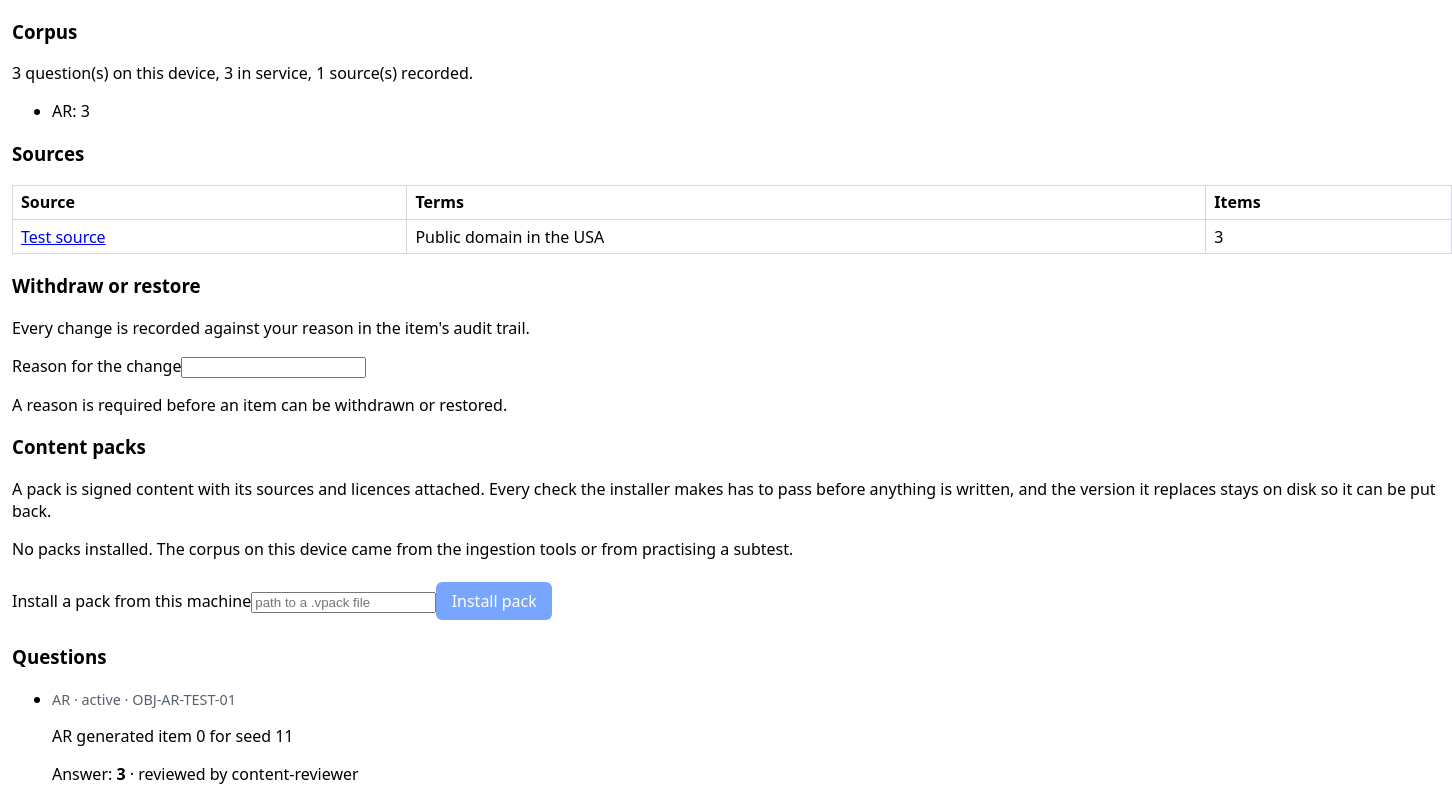
Scenario: the packs panel › shows a refused install as an error rather than as success
This screenshot has width=1452, height=802.
Type "C:/packs/untrusted.vpack" into the field with test id "pack-path-input". click: (344, 602)
box: x1=251 y1=592 x2=436 y2=613
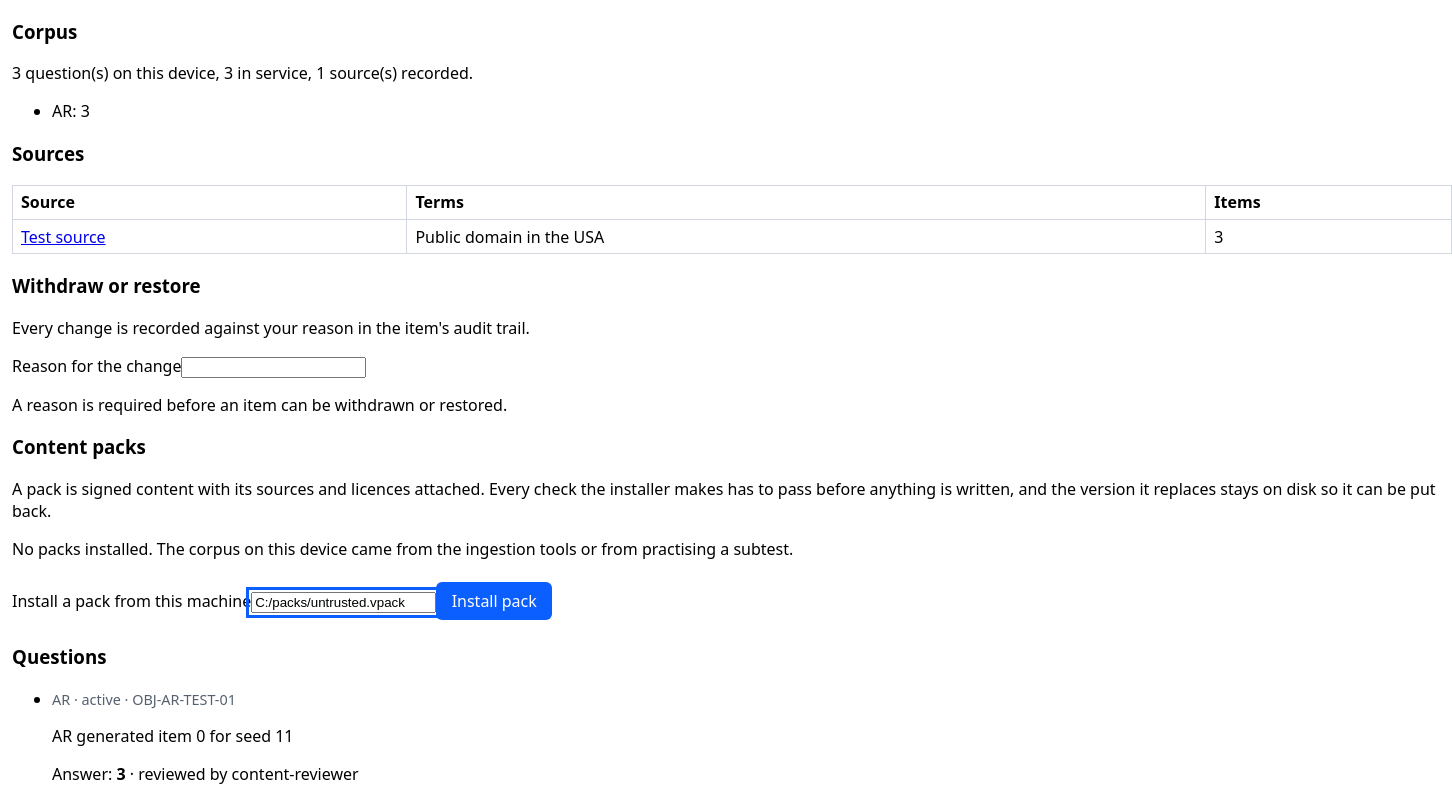
Click the button with test id "pack-install". click: (494, 601)
box: x1=436 y1=582 x2=552 y2=620
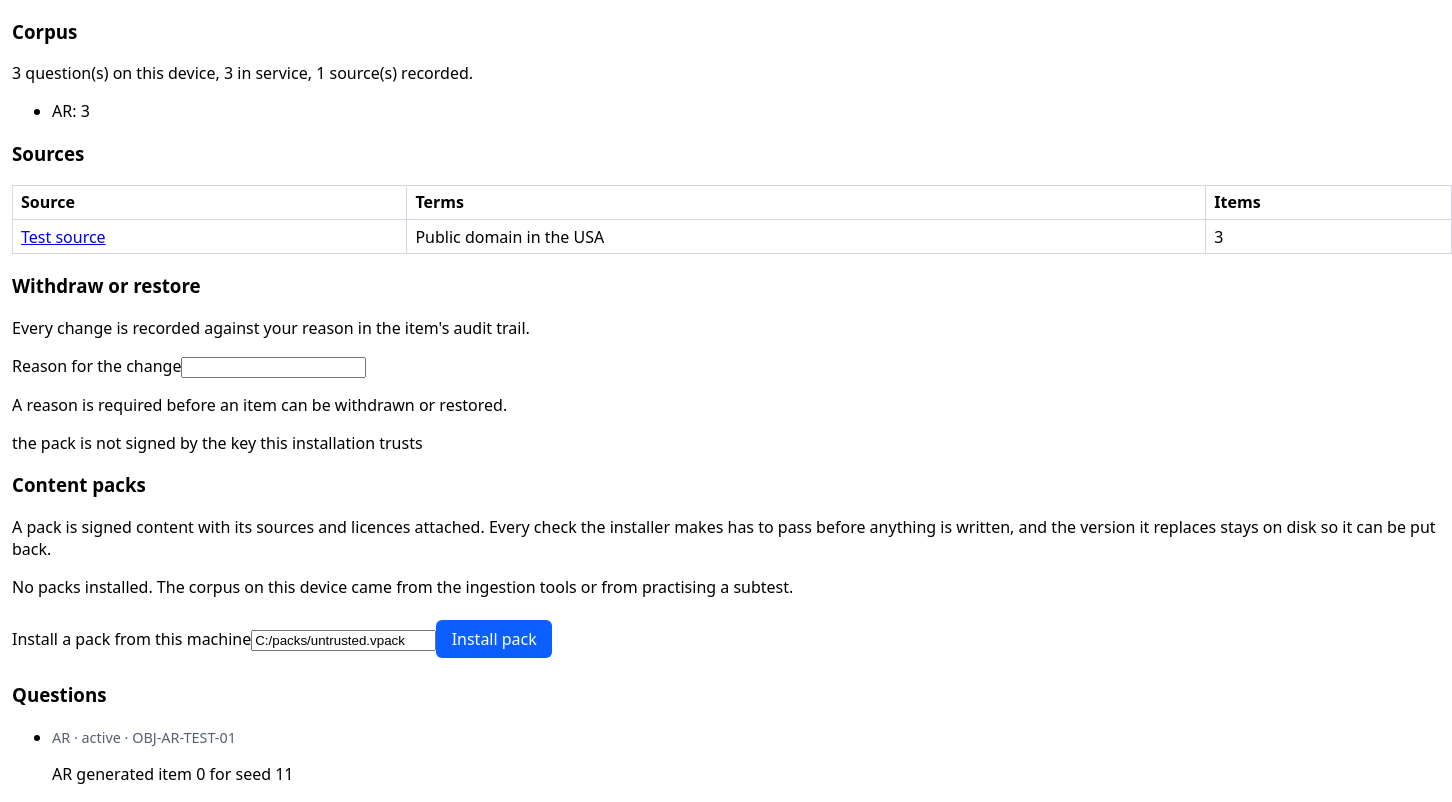
Expected: the message with test id "action-error" shows "not signed by the key this installation trusts", x1=12 y1=432 x2=423 y2=454
